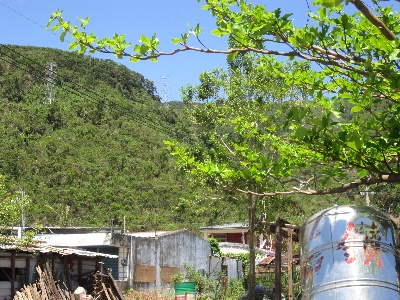water_tower: (298, 201, 399, 300)
